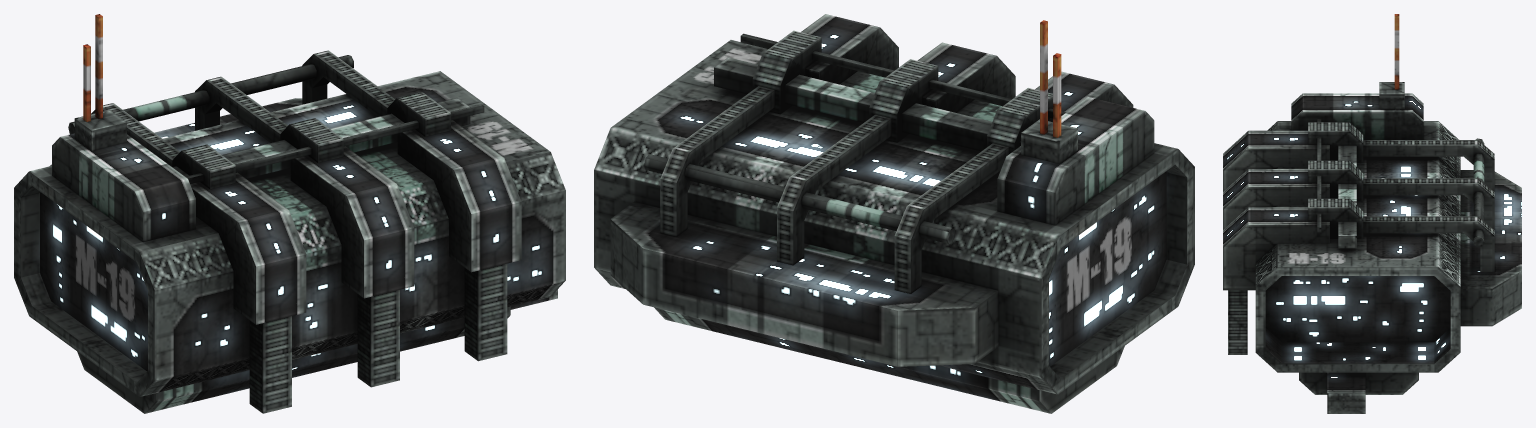
File: space_station_4.FBX
3 renders of one model, left to right at view 1: azimuth 30°, elevation 25°; view 2: azimuth 150°, elevation 25°; view 3: azimuth 270°, elevation 25°, orthographic. The views are drawn at different scales.
Parts seen in each view (by area): view 1: space_station_4; view 2: space_station_4; view 3: space_station_4.
Part boxes in pixels (left/top/right/bottom): space_station_4: left=14, top=14, right=565, bottom=413; space_station_4: left=594, top=14, right=1194, bottom=413; space_station_4: left=1223, top=14, right=1521, bottom=413.
Size of the model in its own units: 1184 by 886 by 931.
Materials: 1 (1 with a texture image).
